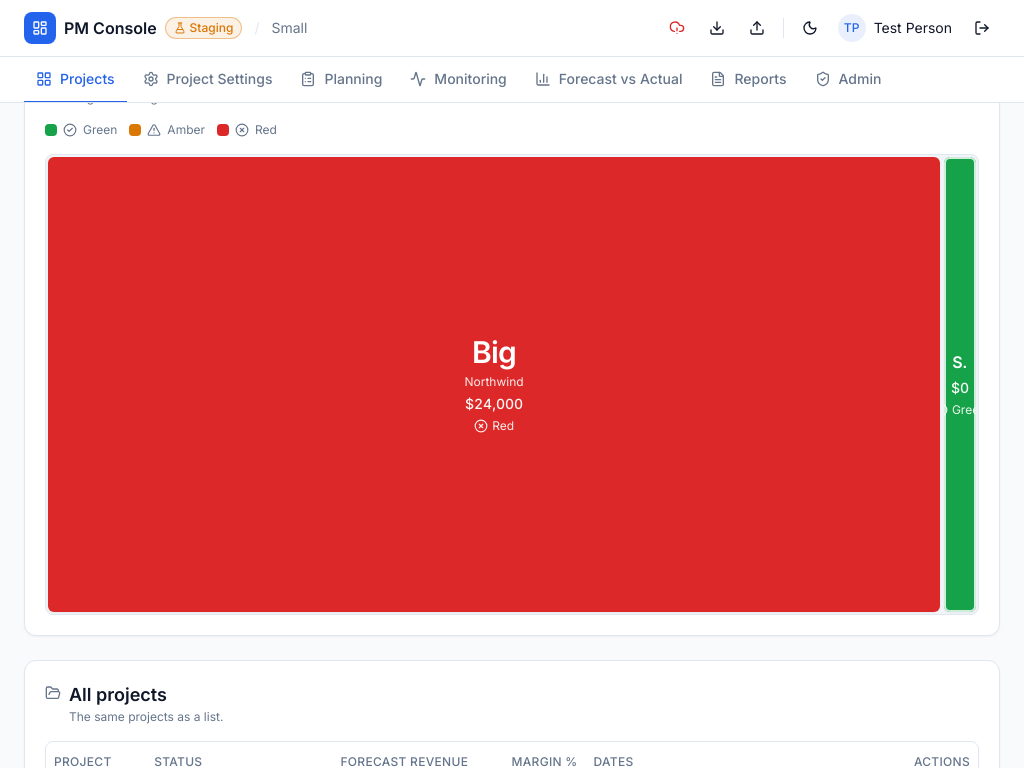
Scenario: Projects page › opens a project in Project Settings when its tile is clicked
(page scrolled)
Step 1. Click the button with aria-label "Big, status Red" → click(102, 384), box [48, 157, 940, 612]
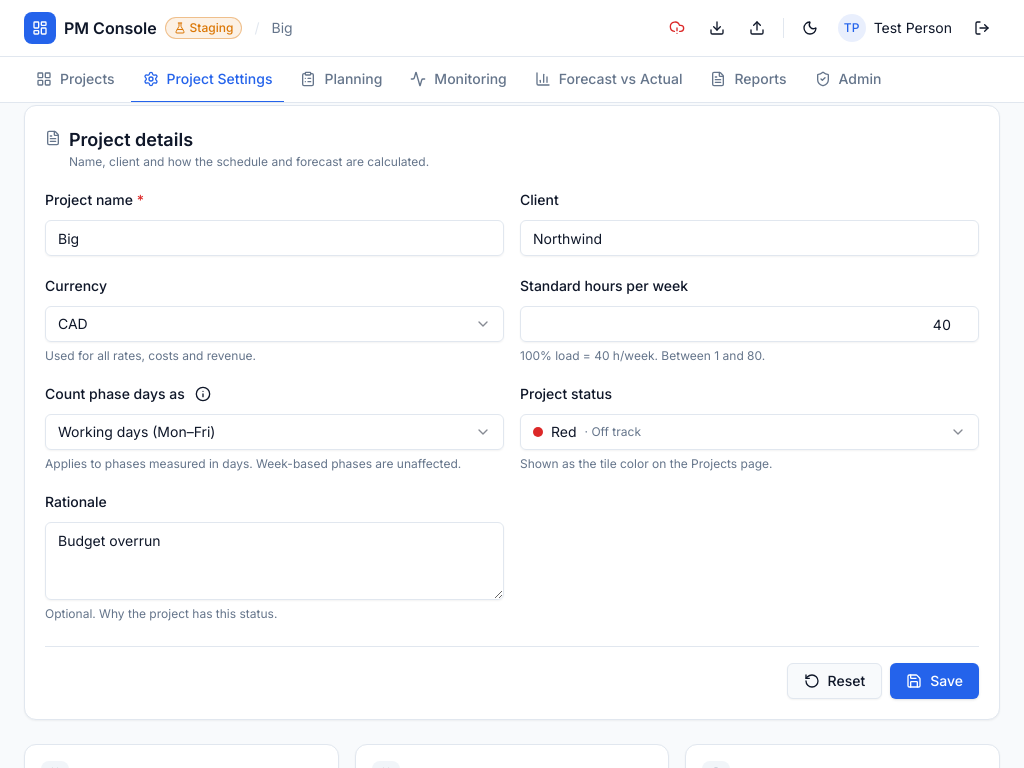
Expected: the field labelled "Project name *" holds "Big", [45, 220, 504, 256]
